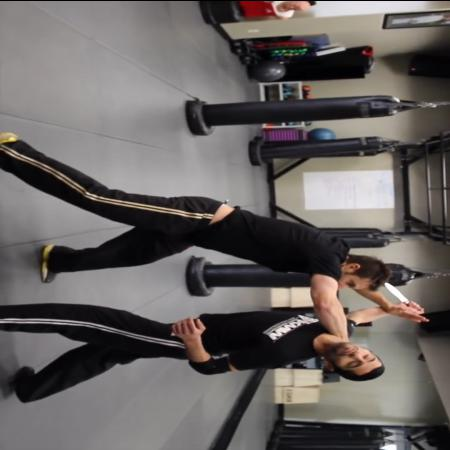long weapon: (383, 279, 428, 315)
